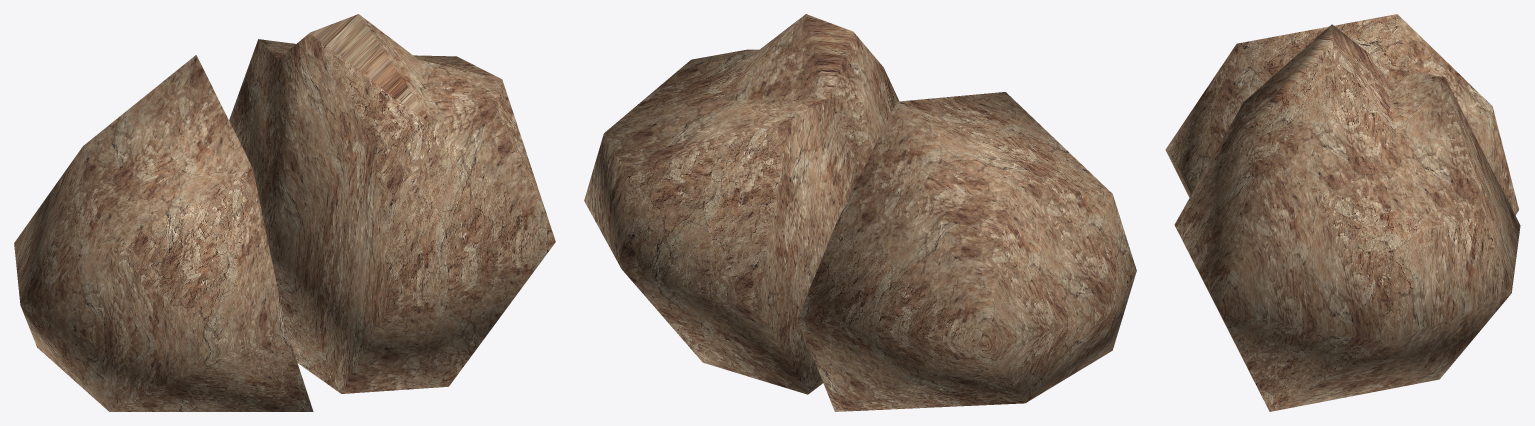
File: rock_tatt_boulder_tan_a2_l3.fbx
3 renders of one model, left to right at view 1: azimuth 30°, elevation 25°; view 2: azimuth 150°, elevation 25°; view 3: azimuth 270°, elevation 25°, orthographic. The views are drawn at different scales.
Parts seen in each view (by area): view 1: mesh_node; view 2: mesh_node; view 3: mesh_node.
Part boxes in pixels (bbox=[...]): mesh_node: bbox=[14, 14, 555, 411]; mesh_node: bbox=[584, 14, 1136, 411]; mesh_node: bbox=[1165, 14, 1520, 411].
Bounding box in the file's own units: 9.41 × 6.24 × 5.82.
